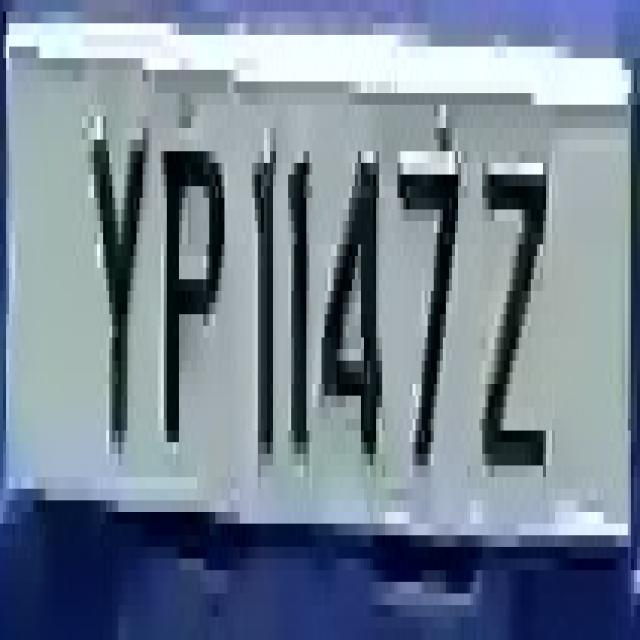1: (282, 70, 313, 477), (252, 128, 282, 477)
4: (313, 117, 392, 536)
7: (394, 82, 464, 536)
P: (146, 117, 228, 500)
Y: (78, 70, 148, 489)
Z: (467, 128, 555, 535)
